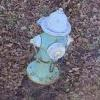a fire hydrant: (26, 7, 74, 85)
